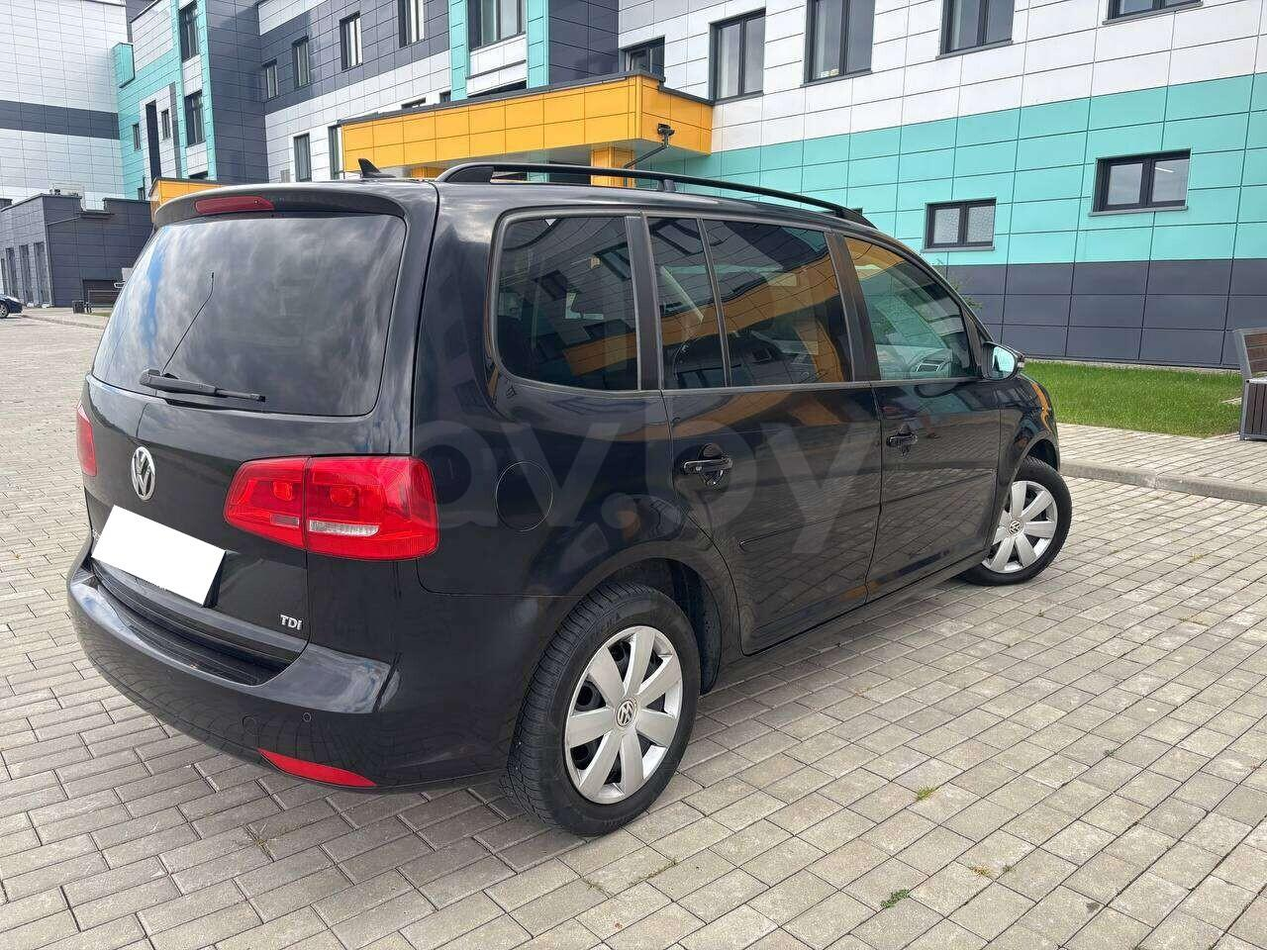Touran_2010-2015: (58, 166, 1075, 860)
